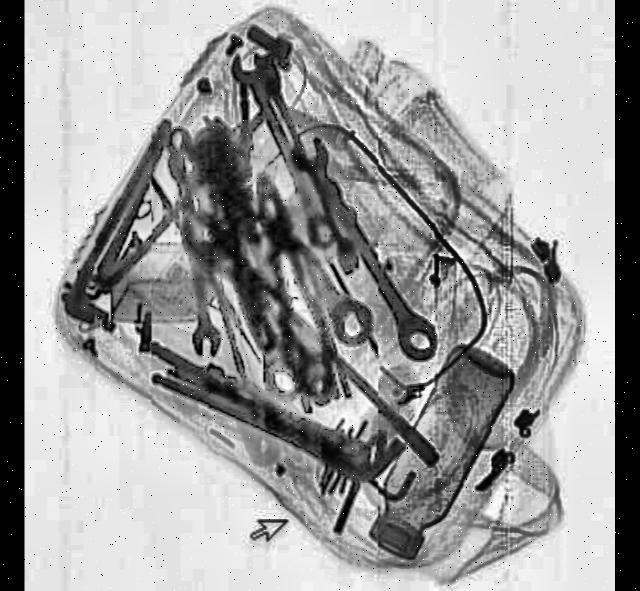Pliers: (236, 160, 356, 415)
Wrench: (288, 125, 448, 372), (228, 40, 346, 254), (166, 122, 226, 357)
